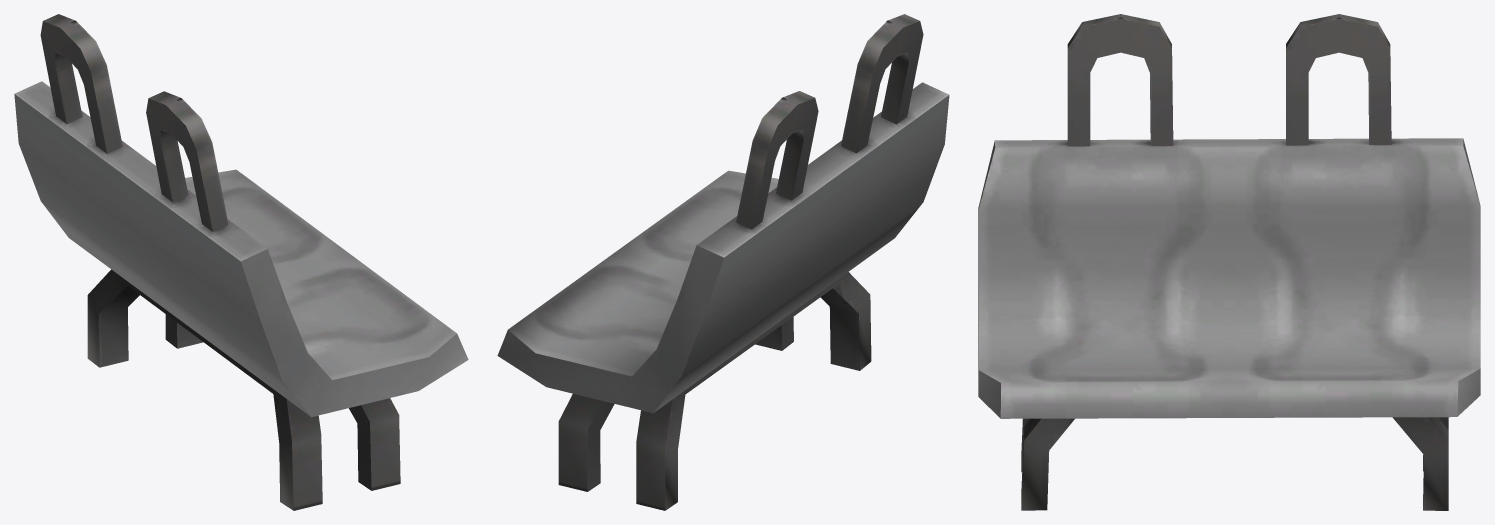
Rendered from bank1.glb.
The picture shows the model from 3 angles, left to right: view 1: azimuth 30°, elevation 25°; view 2: azimuth 150°, elevation 25°; view 3: azimuth 270°, elevation 25°; orthographic projection. The views are drawn at different scales.
Visible parts, largest first — view 1: Tube01; view 2: Tube01; view 3: Tube01.
Part boxes in pixels (x1=…): Tube01: x1=14, y1=14, x2=468, y2=510; Tube01: x1=497, y1=14, x2=949, y2=510; Tube01: x1=978, y1=14, x2=1480, y2=510.
Size of the model in its own units: 23.95 by 36.78 by 41.14.
1 material, 1 textured.
